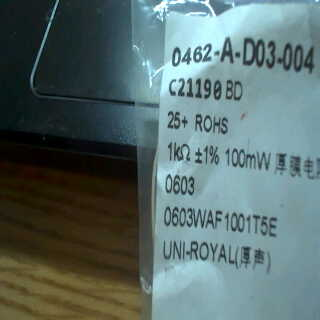1kR: (165, 141, 192, 164)
